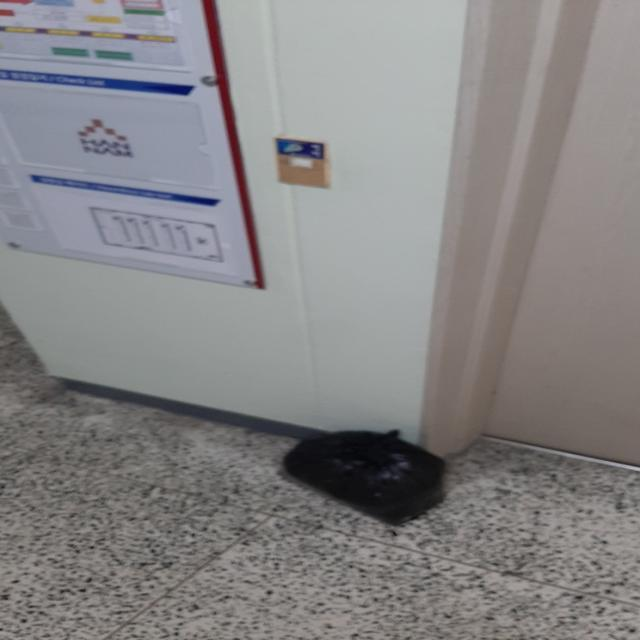black_bag: (276, 428, 451, 526)
